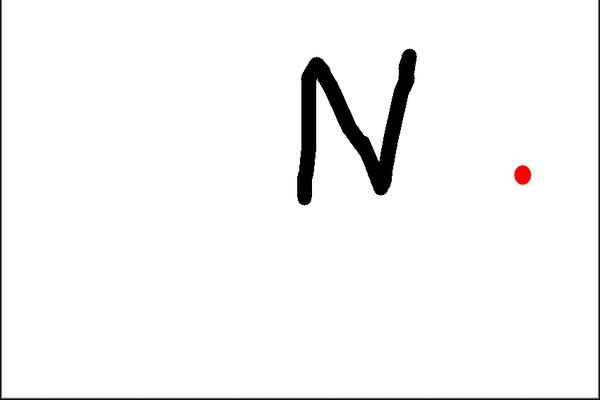N: (290, 40, 418, 211)
